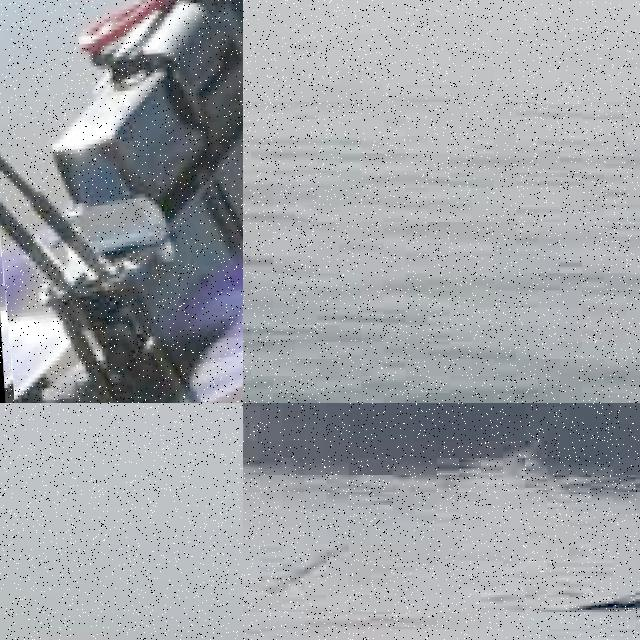drone: (0, 0, 243, 403)
